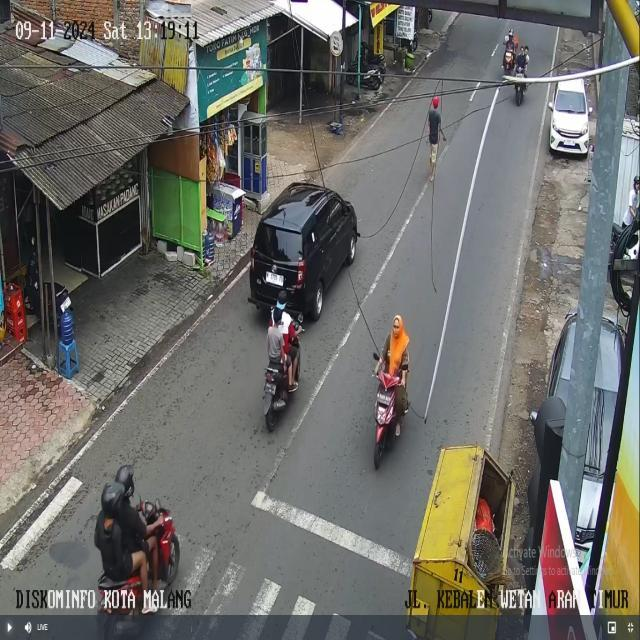Helmet: (101, 481, 124, 517), (115, 464, 134, 498), (276, 289, 287, 309), (273, 307, 282, 325), (432, 96, 439, 108), (633, 176, 639, 184), (508, 29, 513, 37)
Number Plate: (265, 271, 283, 286), (377, 392, 390, 405), (265, 383, 275, 394)
Rearview Mirror: (529, 410, 537, 424), (297, 313, 303, 323), (401, 363, 408, 370), (373, 352, 379, 360), (547, 102, 552, 109), (588, 107, 593, 114)
